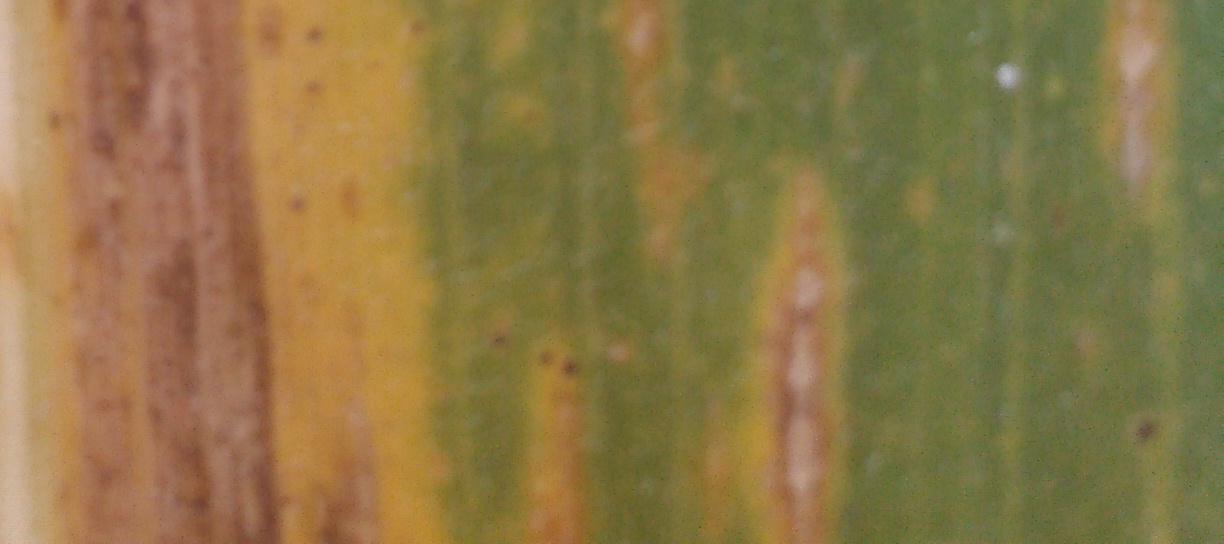tarspot: (1128, 410, 1168, 458), (32, 94, 70, 138), (293, 73, 337, 108), (293, 17, 334, 52), (395, 8, 434, 42), (482, 323, 512, 354), (530, 340, 560, 371), (278, 188, 309, 213), (560, 352, 582, 383)
